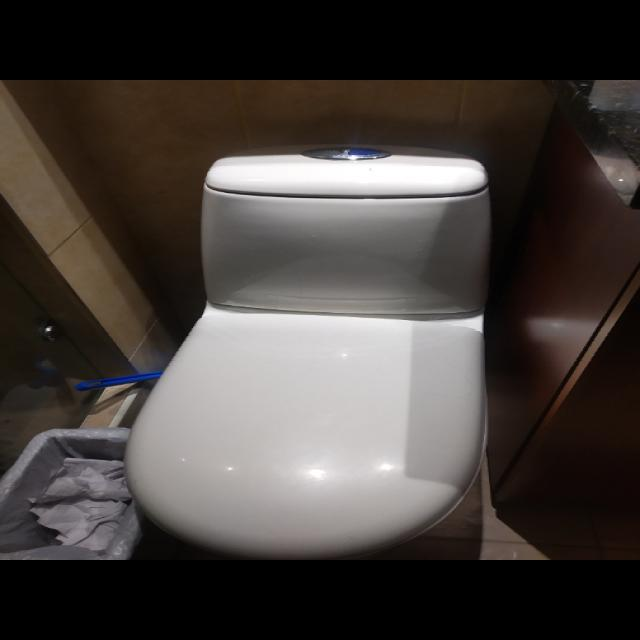toilet: (111, 143, 495, 564)
